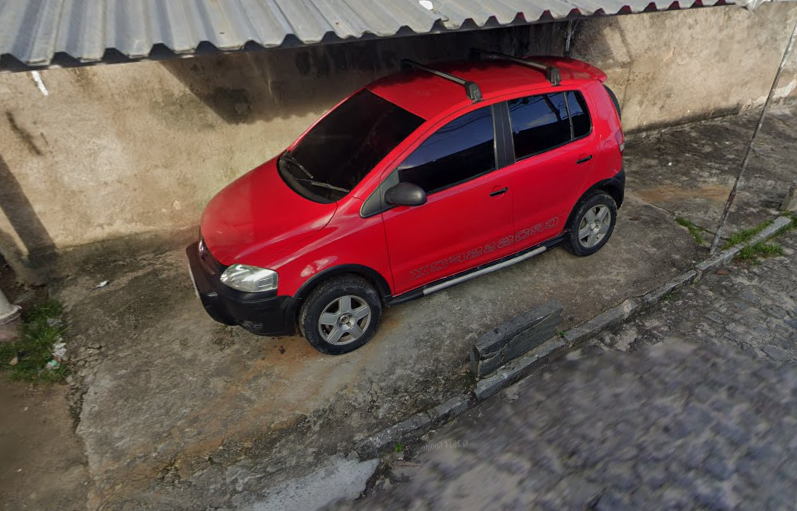car: (183, 47, 626, 356)
